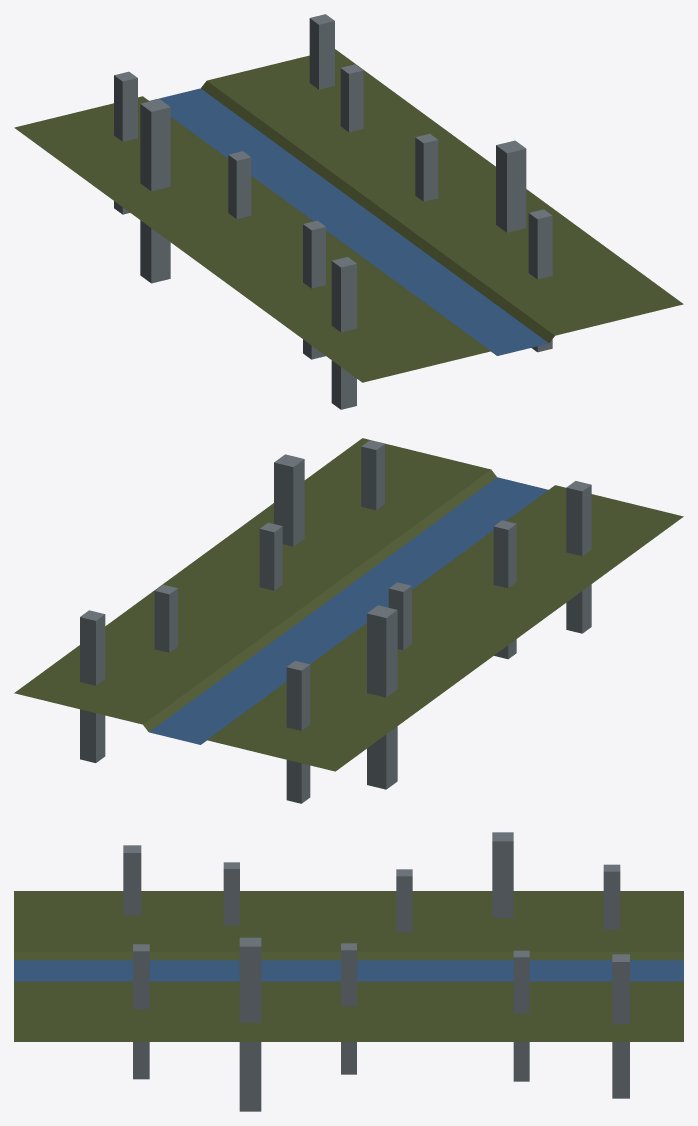
The picture shows the model from 3 angles, top to bottom: view 1: azimuth 30°, elevation 25°; view 2: azimuth 150°, elevation 25°; view 3: azimuth 270°, elevation 25°; orthographic projection. The views are drawn at different scales.
Visible parts, largest first — view 1: Cube.005; view 2: Cube.005; view 3: Cube.005.
Part boxes in pixels (x1=…): Cube.005: x1=14, y1=14, x2=683, y2=409; Cube.005: x1=14, y1=438, x2=683, y2=803; Cube.005: x1=14, y1=832, x2=683, y2=1111.
Size of the model in its own units: 1237 by 631 by 2323.
